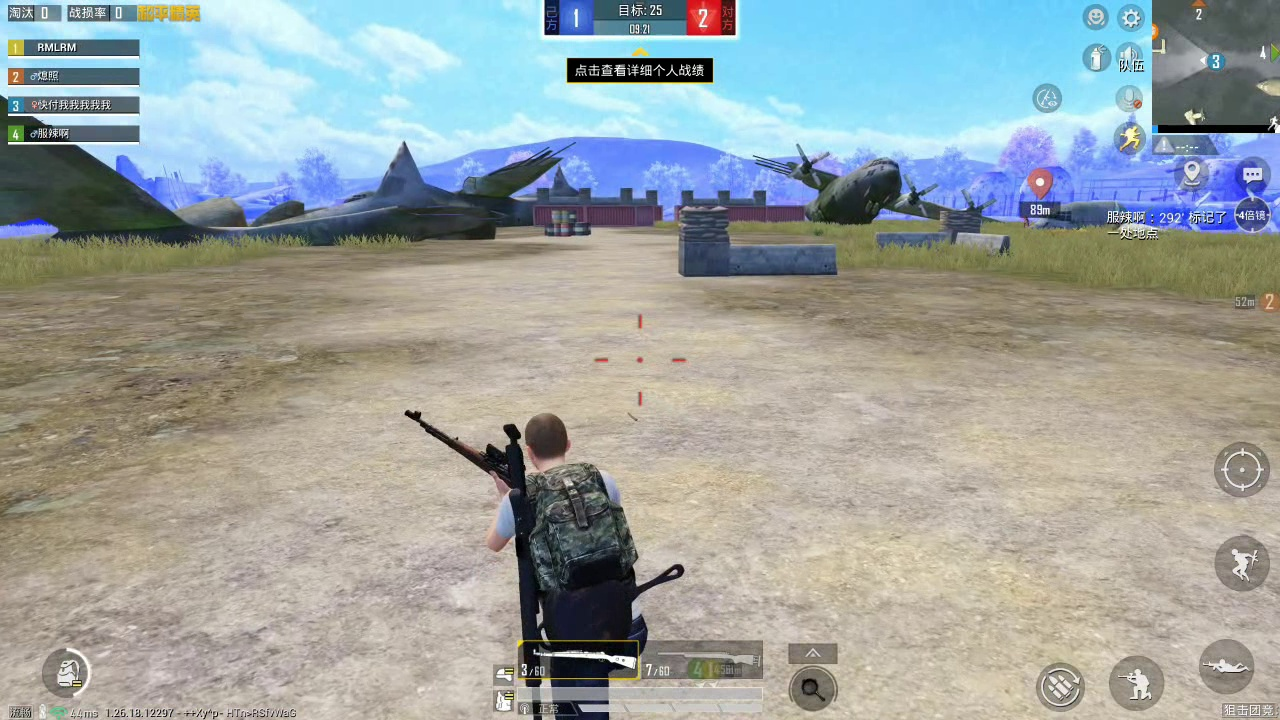enemy: (1023, 213, 1031, 228)
